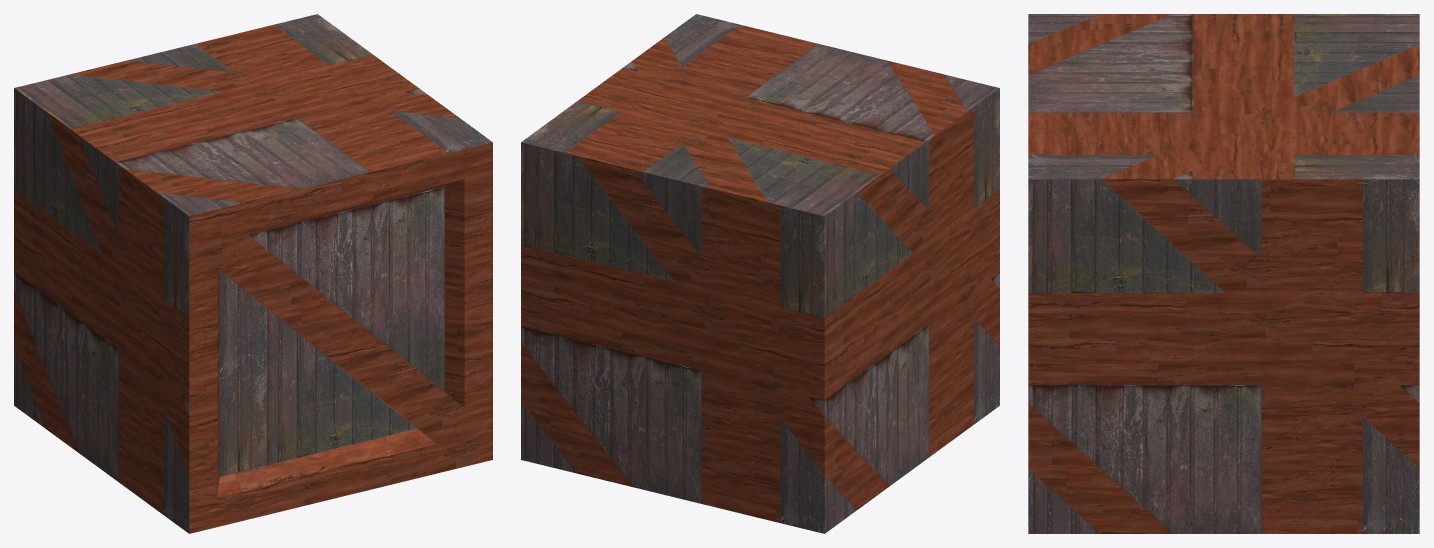
Rendered from Crate.FBX.
The picture shows the model from 3 angles, left to right: view 1: azimuth 30°, elevation 25°; view 2: azimuth 150°, elevation 25°; view 3: azimuth 270°, elevation 25°; orthographic projection. The views are drawn at different scales.
Parts seen in each view (by area): view 1: Box001; view 2: Box001; view 3: Box001.
Boxes of the visible parts, x1=… form: Box001: x1=14, y1=14, x2=492, y2=533; Box001: x1=521, y1=14, x2=999, y2=533; Box001: x1=1028, y1=14, x2=1419, y2=533.
Bounding box in the file's own units: 4 × 4 × 4.
